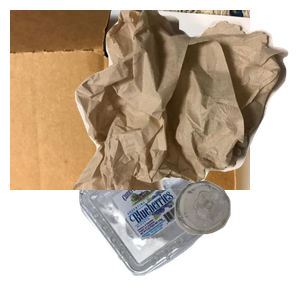cardboard: (10, 10, 250, 190)
glass: (172, 178, 300, 300)
plastic: (77, 133, 289, 300)
trash: (70, 10, 300, 190)
